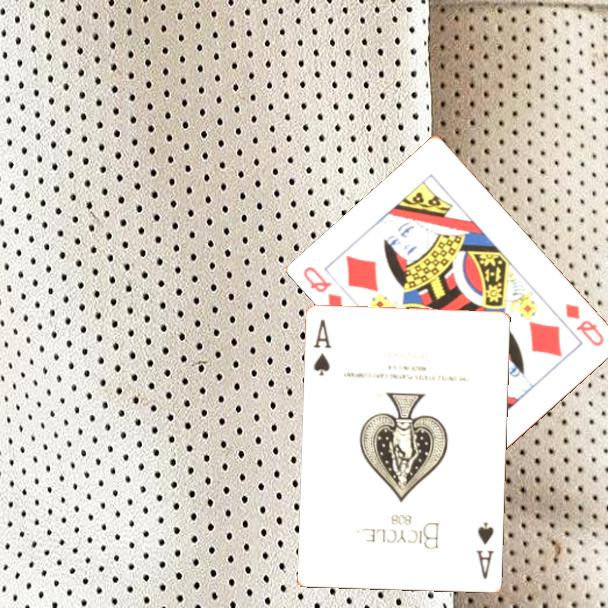d12: (300, 263, 346, 312), (562, 300, 607, 349)
s01: (473, 519, 497, 582), (311, 317, 335, 379)
